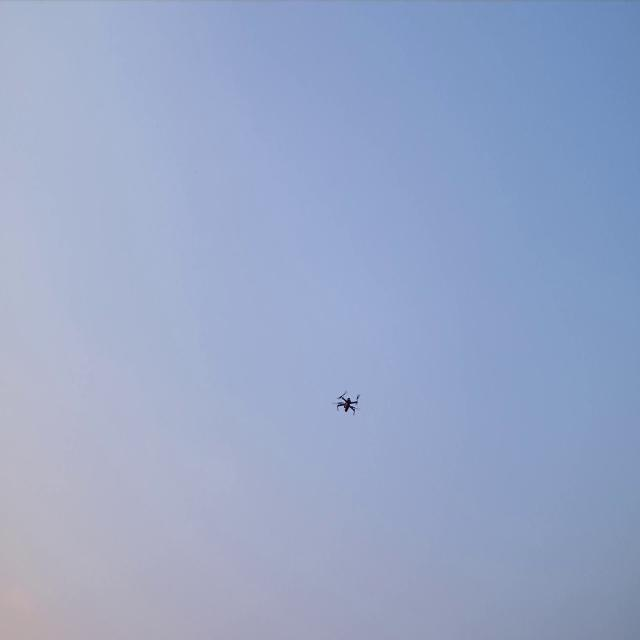UAV: (331, 388, 362, 416)
